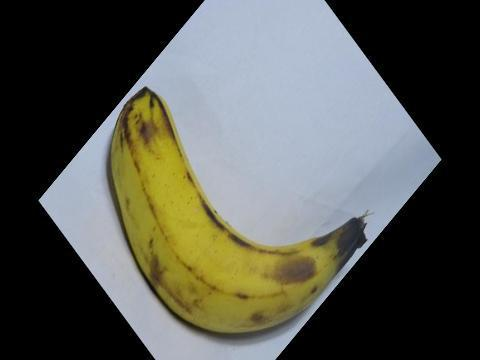ripe: (92, 84, 383, 351)
